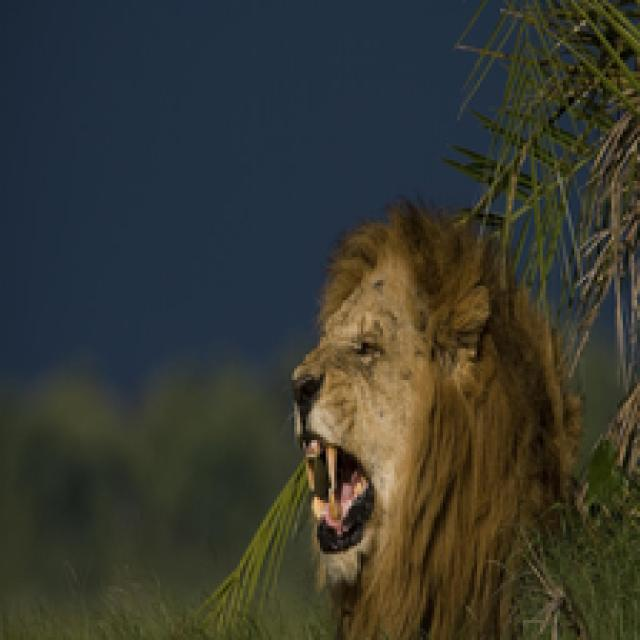lion: (254, 205, 601, 640)
